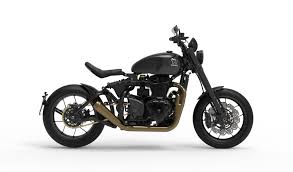motorcycle: (40, 25, 253, 144)
